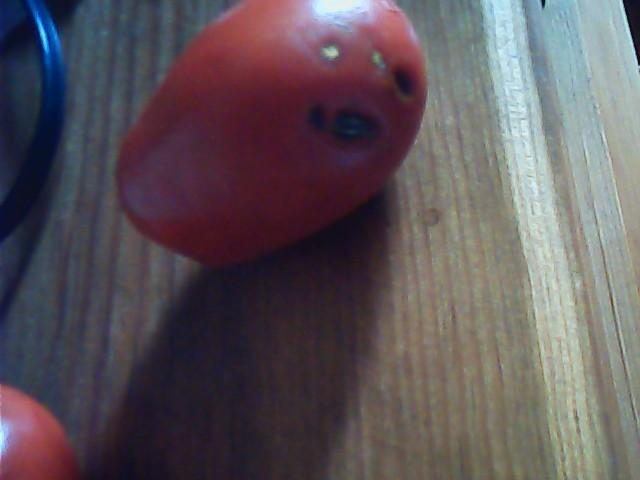defectuoso: (115, 0, 426, 270)
